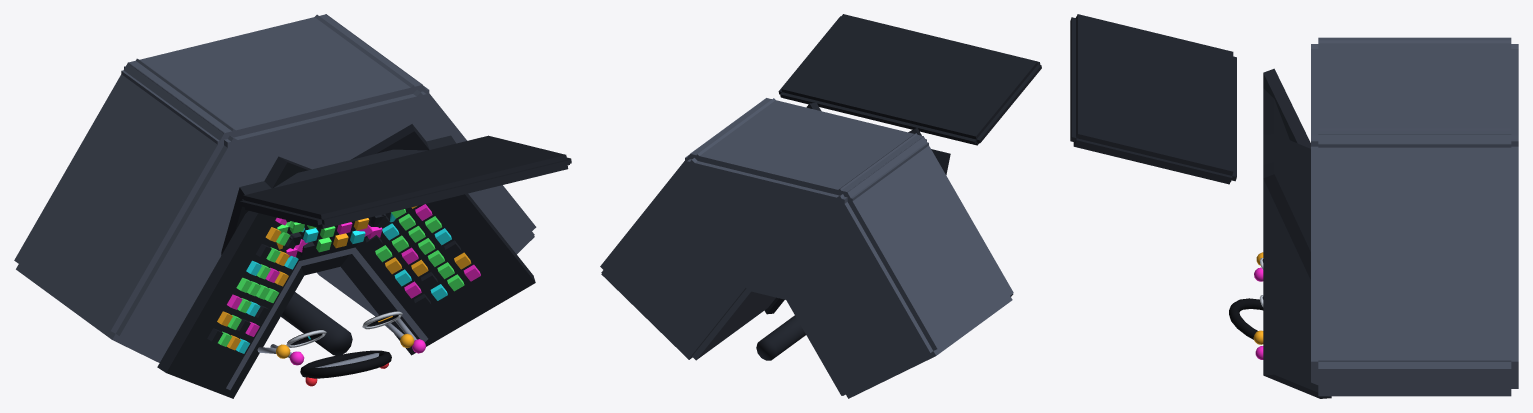
Rendered from shooter-helm.glb.
The picture shows the model from 3 angles, left to right: view 1: azimuth 30°, elevation 25°; view 2: azimuth 150°, elevation 25°; view 3: azimuth 270°, elevation 25°; orthographic projection. The views are drawn at different scales.
Parts seen in each view (by area): view 1: Model Mesh; view 2: Model Mesh; view 3: Model Mesh.
Boxes of the visible parts, x1=… form: Model Mesh: x1=14, y1=14, x2=571, y2=398; Model Mesh: x1=600, y1=14, x2=1041, y2=398; Model Mesh: x1=1070, y1=14, x2=1518, y2=398.
Bounding box in the file's own units: 2.01 × 1.27 × 1.83.
2 materials, 2 textured.
